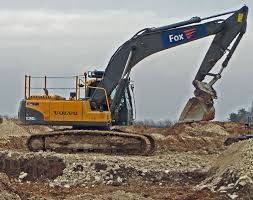excavator: (18, 5, 249, 156)
